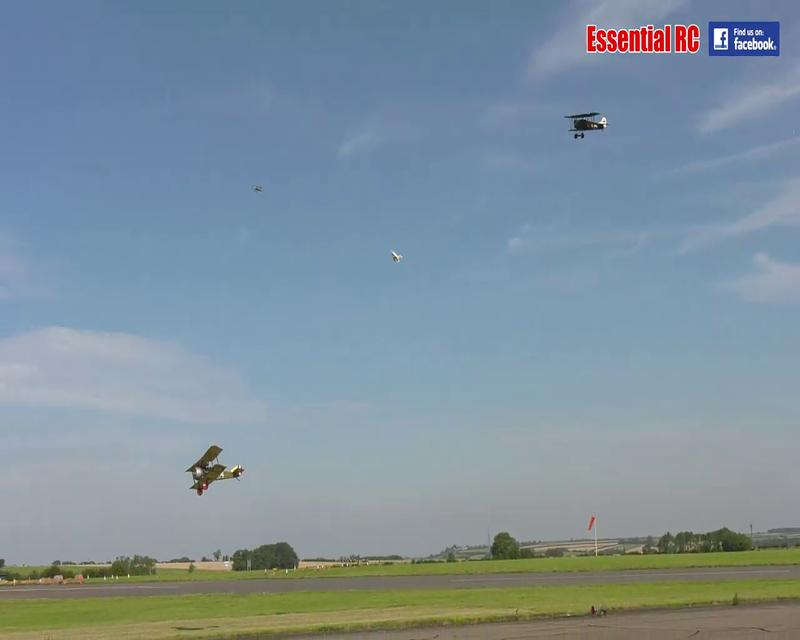UAV: (182, 446, 244, 496), (564, 110, 611, 141)
